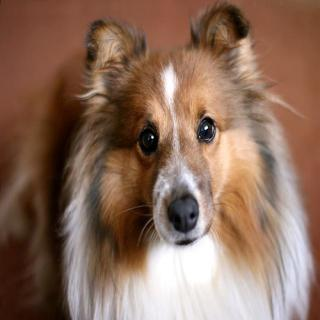dog: (67, 5, 290, 269)
nose: (163, 194, 204, 234)
